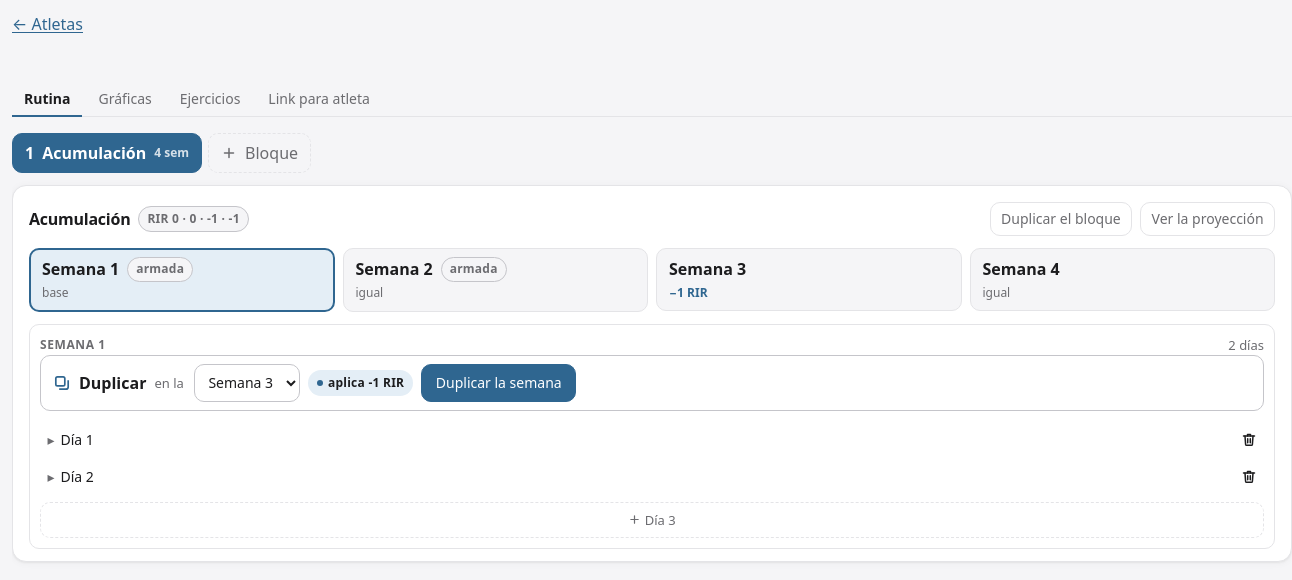
agregar y borrar días › el + propone el primer día libre de la semana abierta
Expected: the heading "Semana 1" is shown, [40,337,106,352]
Expected: the button titled "Agregar el día 3" is shown, [40,502,1264,538]
Click the button "Semana 2 armada igual" at (495, 280), box [342,248,648,312]
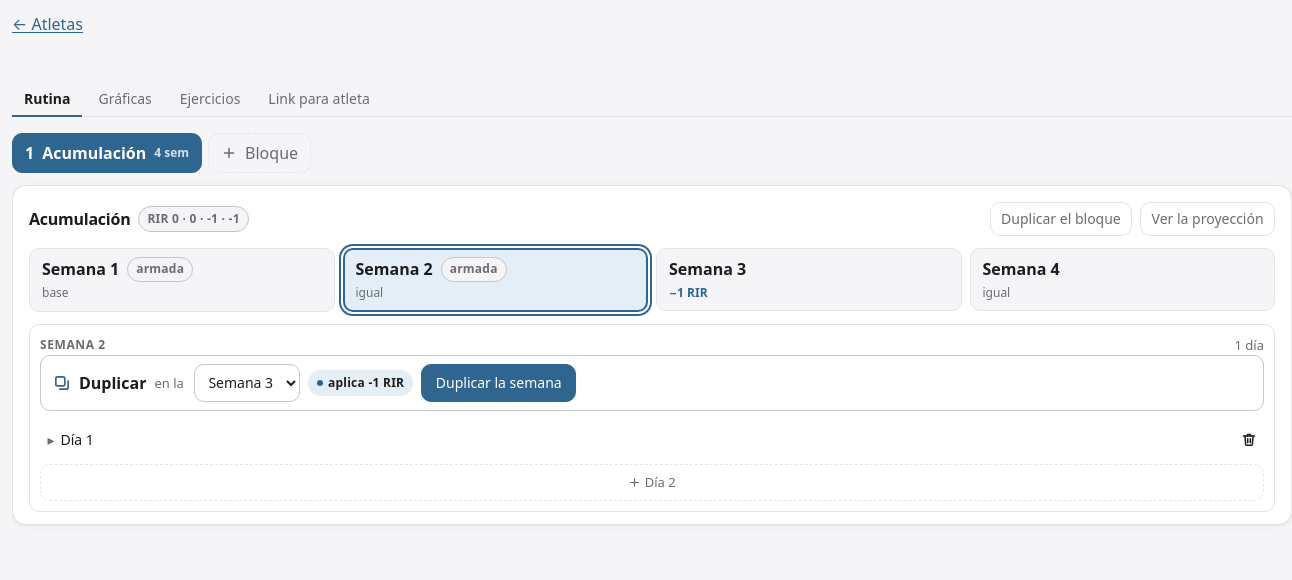
Now the button titled "Agregar el día 2" is shown, box [40,464,1264,501]
